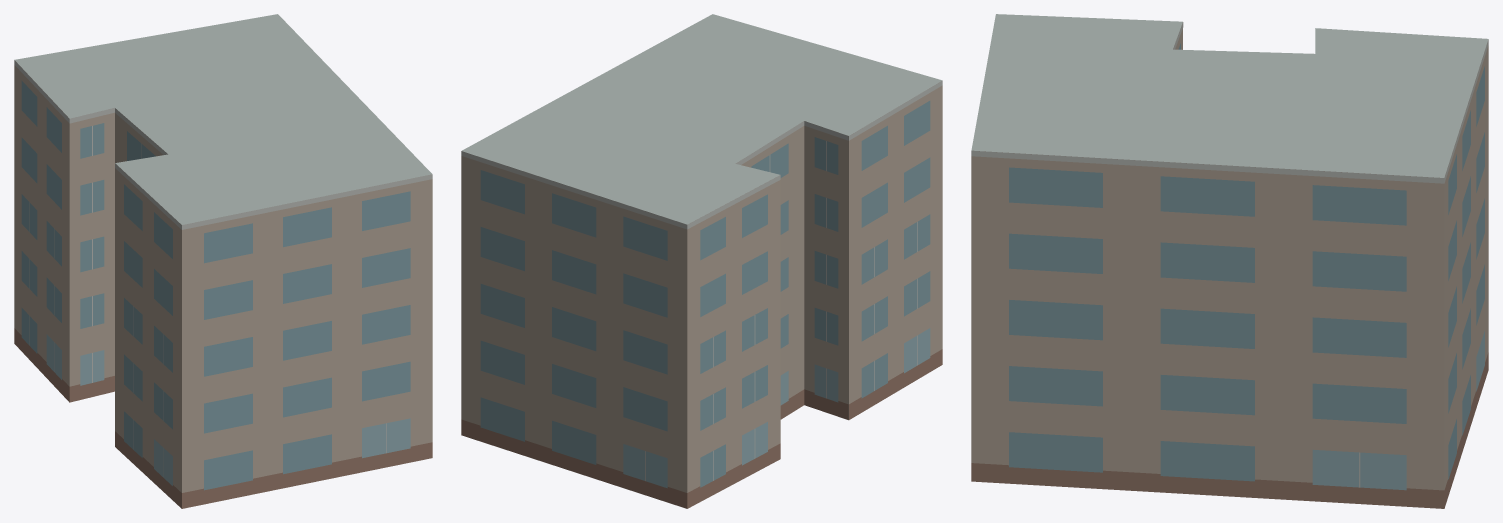
The model's file is survey-upis-32639633.glb.
The picture shows the model from 3 angles, left to right: view 1: azimuth 30°, elevation 25°; view 2: azimuth 150°, elevation 25°; view 3: azimuth 270°, elevation 25°; orthographic projection. The views are drawn at different scales.
Parts seen in each view (by area): view 1: survey-upis-32639633.tmp; view 2: survey-upis-32639633.tmp; view 3: survey-upis-32639633.tmp.
Boxes of the visible parts, x1=… form: survey-upis-32639633.tmp: x1=14, y1=14, x2=432, y2=508; survey-upis-32639633.tmp: x1=461, y1=14, x2=942, y2=508; survey-upis-32639633.tmp: x1=971, y1=14, x2=1488, y2=508.
Bounding box in the file's own units: 15.22 × 14.3 × 20.27.
